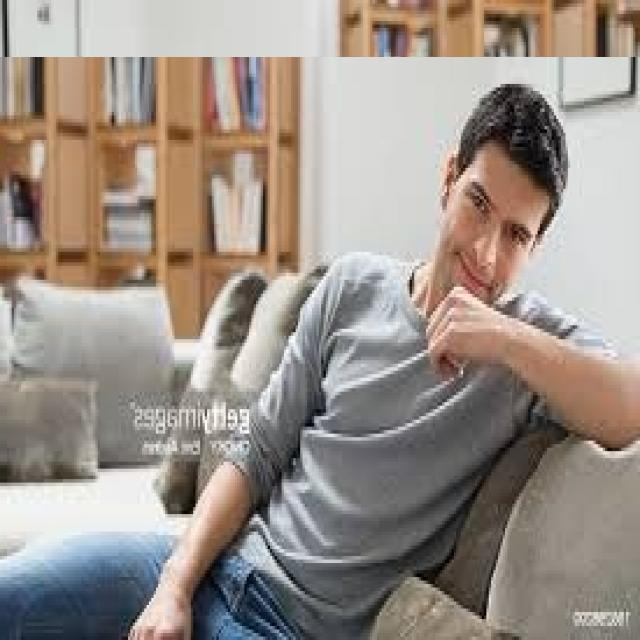NotFall: (4, 103, 608, 636)
